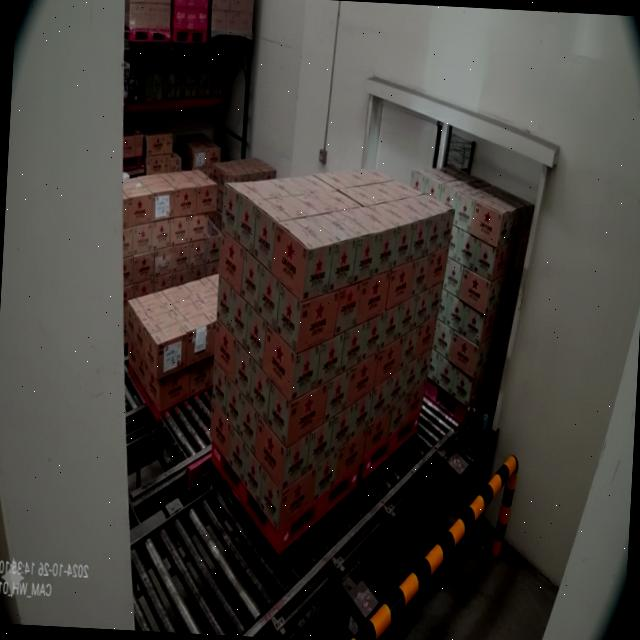pallet: (195, 166, 378, 560), (414, 154, 538, 441), (356, 172, 456, 484)
